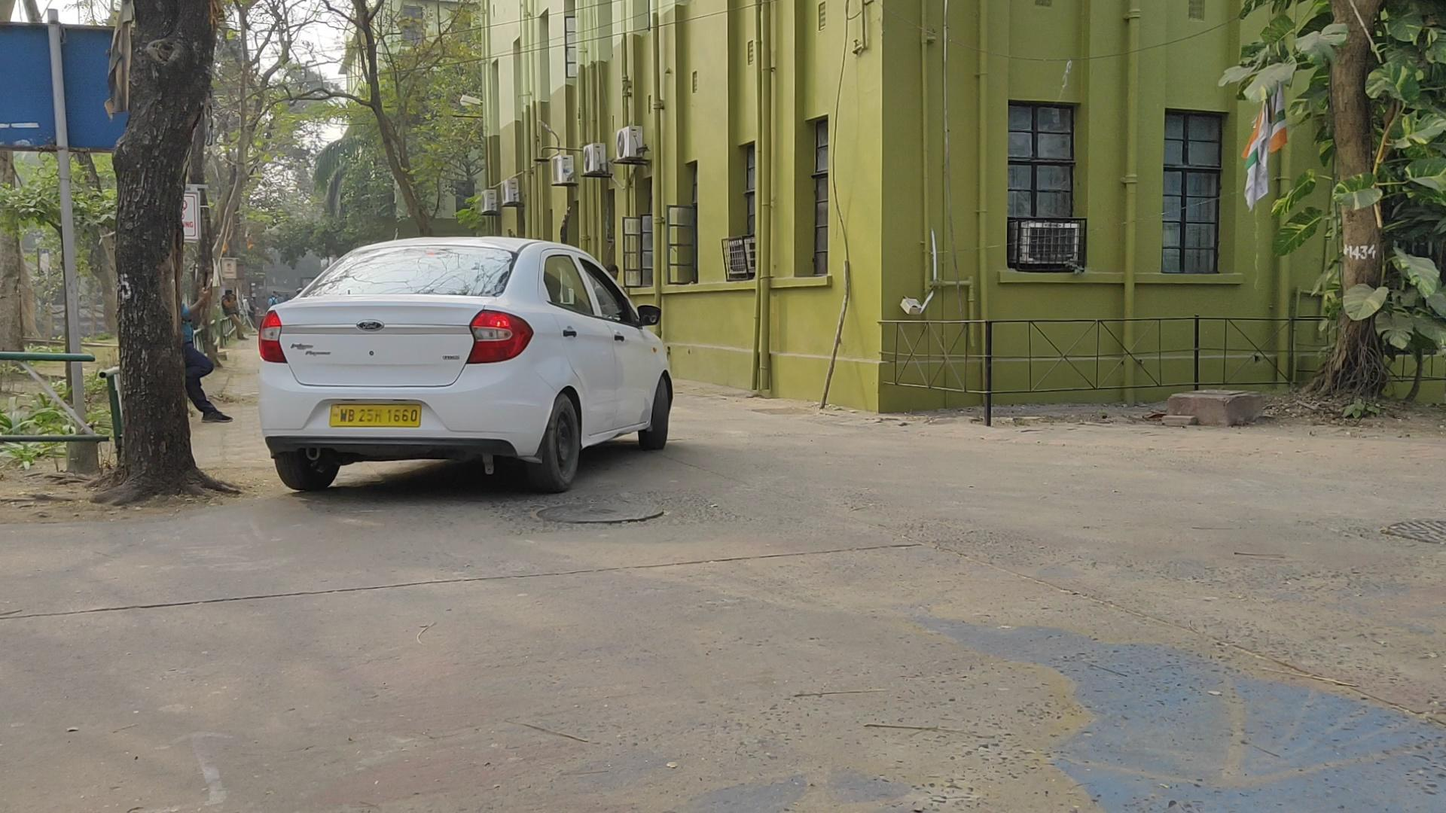car: (256, 237, 673, 495)
